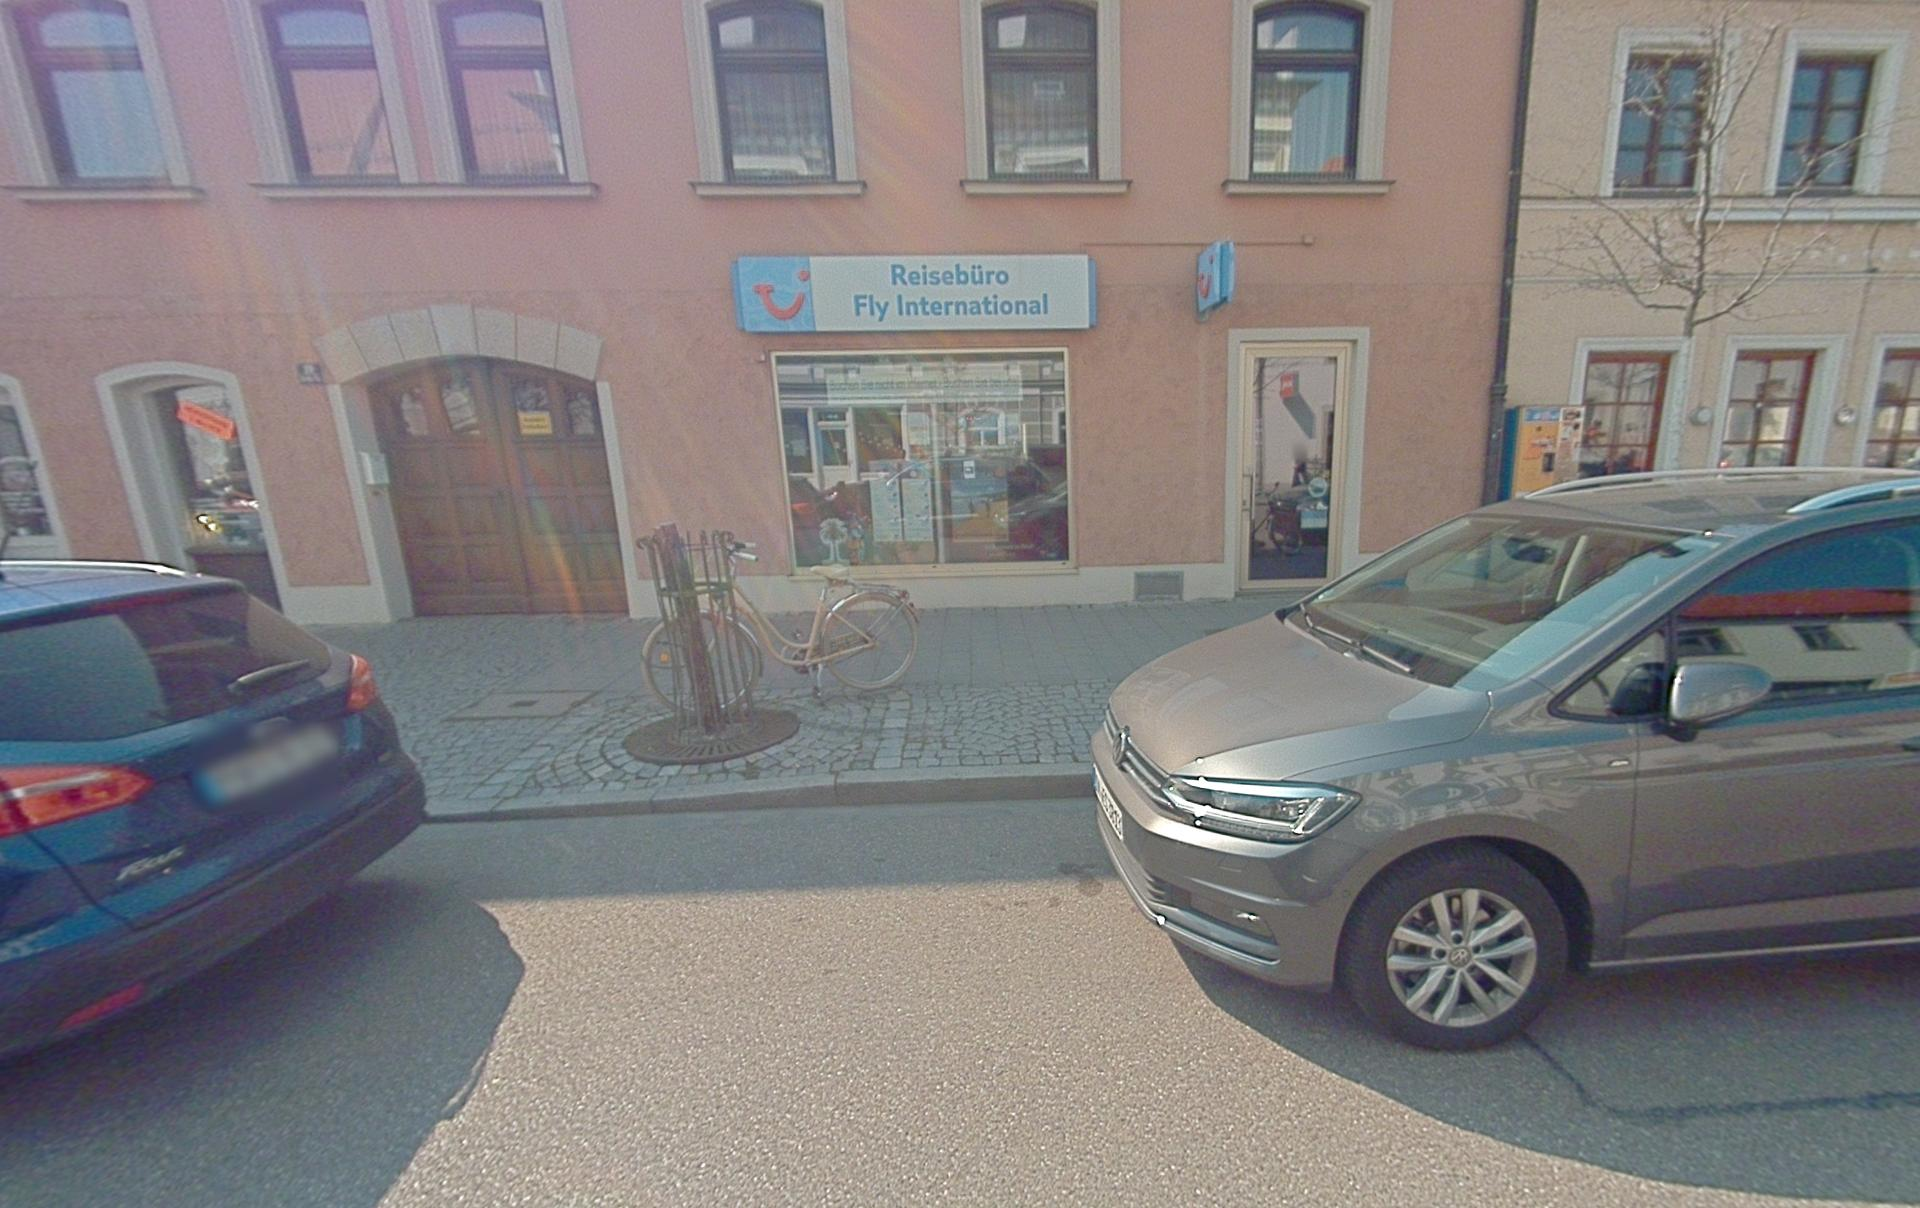car: (1090, 464, 1919, 1052), (1, 557, 427, 1068), (188, 486, 265, 550)
